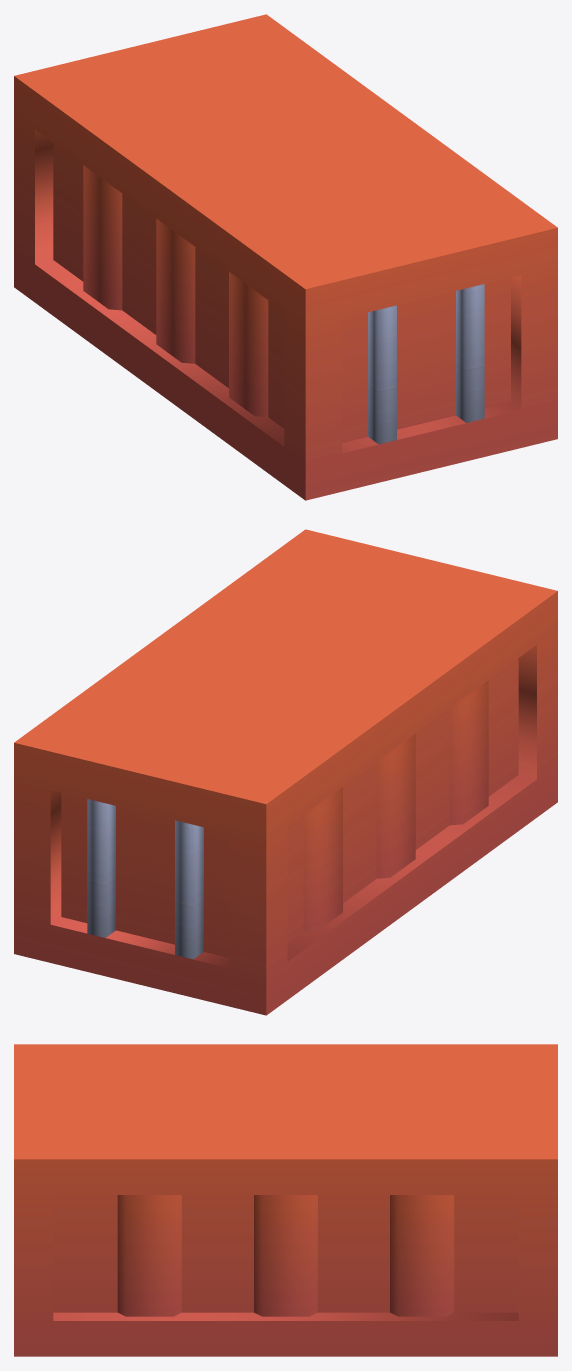
The model's file is cargo-container-a.glb.
3 renders of one model, top to bottom at view 1: azimuth 30°, elevation 25°; view 2: azimuth 150°, elevation 25°; view 3: azimuth 270°, elevation 25°, orthographic. The views are drawn at different scales.
Parts seen in each view (by area): view 1: cargo-container-a; view 2: cargo-container-a; view 3: cargo-container-a.
Part boxes in pixels (x1,y1,x2,y2): cargo-container-a: [14, 14, 557, 500]; cargo-container-a: [14, 529, 557, 1015]; cargo-container-a: [14, 1044, 557, 1356].
Size of the model in its own units: 1.38 by 1.1 by 2.76.
Materials: 1 (1 with a texture image).
